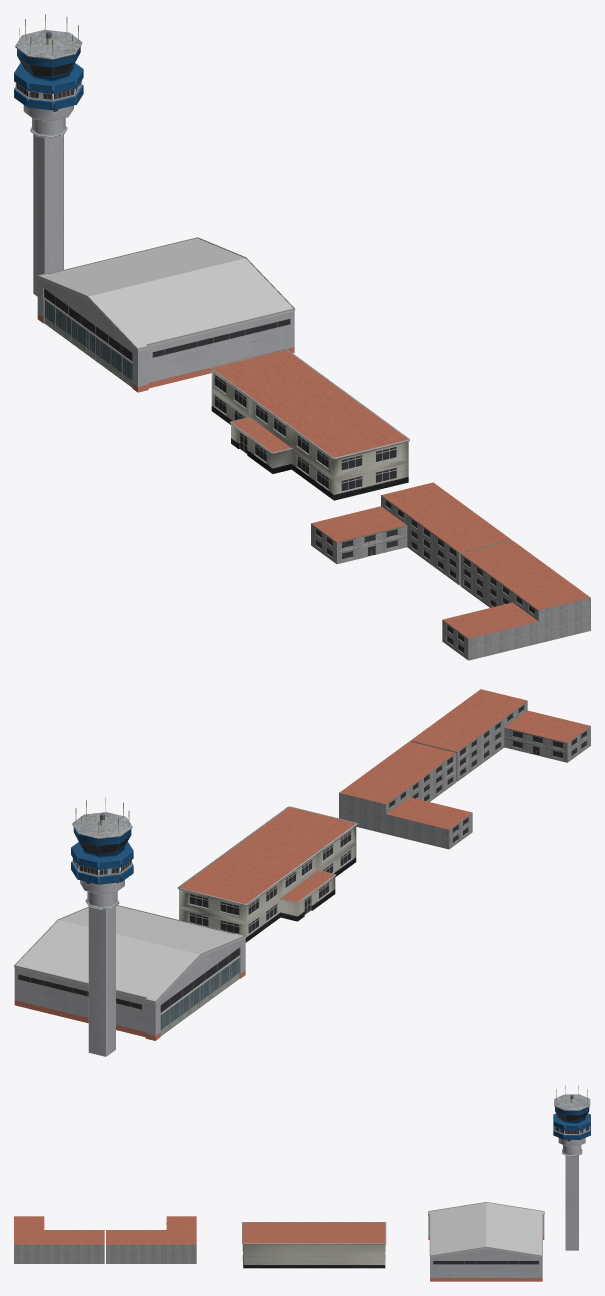
File: airport_stuff.fbx
The picture shows the model from 3 angles, top to bottom: view 1: azimuth 30°, elevation 25°; view 2: azimuth 150°, elevation 25°; view 3: azimuth 270°, elevation 25°; orthographic projection. The views are drawn at different scales.
Visible parts, largest first — view 1: polySurface2376, polySurface2377, polySurface1294, polySurface2375; view 2: polySurface2376, polySurface2377, polySurface1294, polySurface2375; view 3: polySurface2376, polySurface2377, polySurface1294, polySurface2375.
Part boxes in pixels (x1,y1,x2,y2): polySurface2376: (37,237,295,392); polySurface2377: (311,482,590,660); polySurface1294: (210,349,409,500); polySurface2375: (14,14,83,296); polySurface2376: (14,905,245,1040); polySurface2377: (339,689,590,849); polySurface1294: (177,806,357,942); polySurface2375: (71,798,133,1056); polySurface2376: (428,1202,544,1281); polySurface2377: (14,1216,196,1263); polySurface1294: (242,1222,386,1268); polySurface2375: (553,1085,590,1250).
Size of the model in its own units: 3022 by 4179 by 14037.
